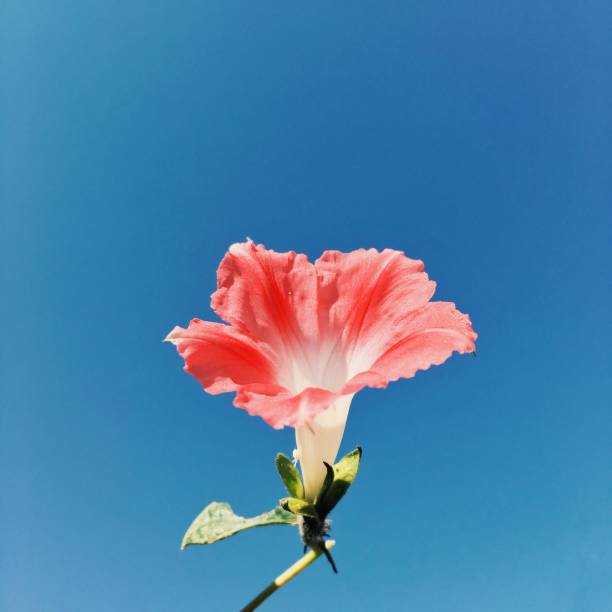Hibiscus: (162, 218, 477, 612)
